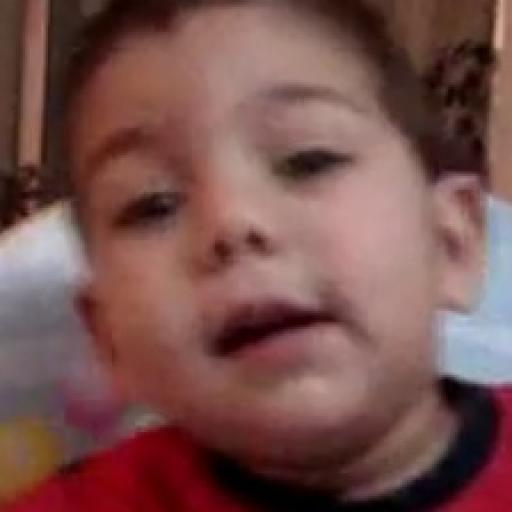Autism: (50, 18, 506, 428)
